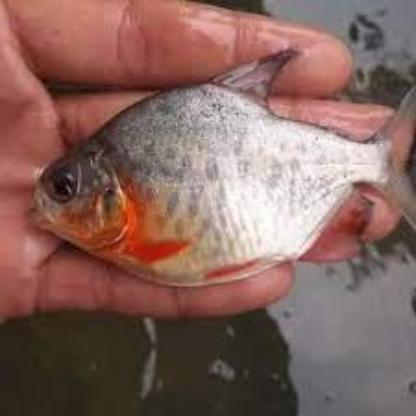ikan-pacu: (32, 68, 414, 280)
